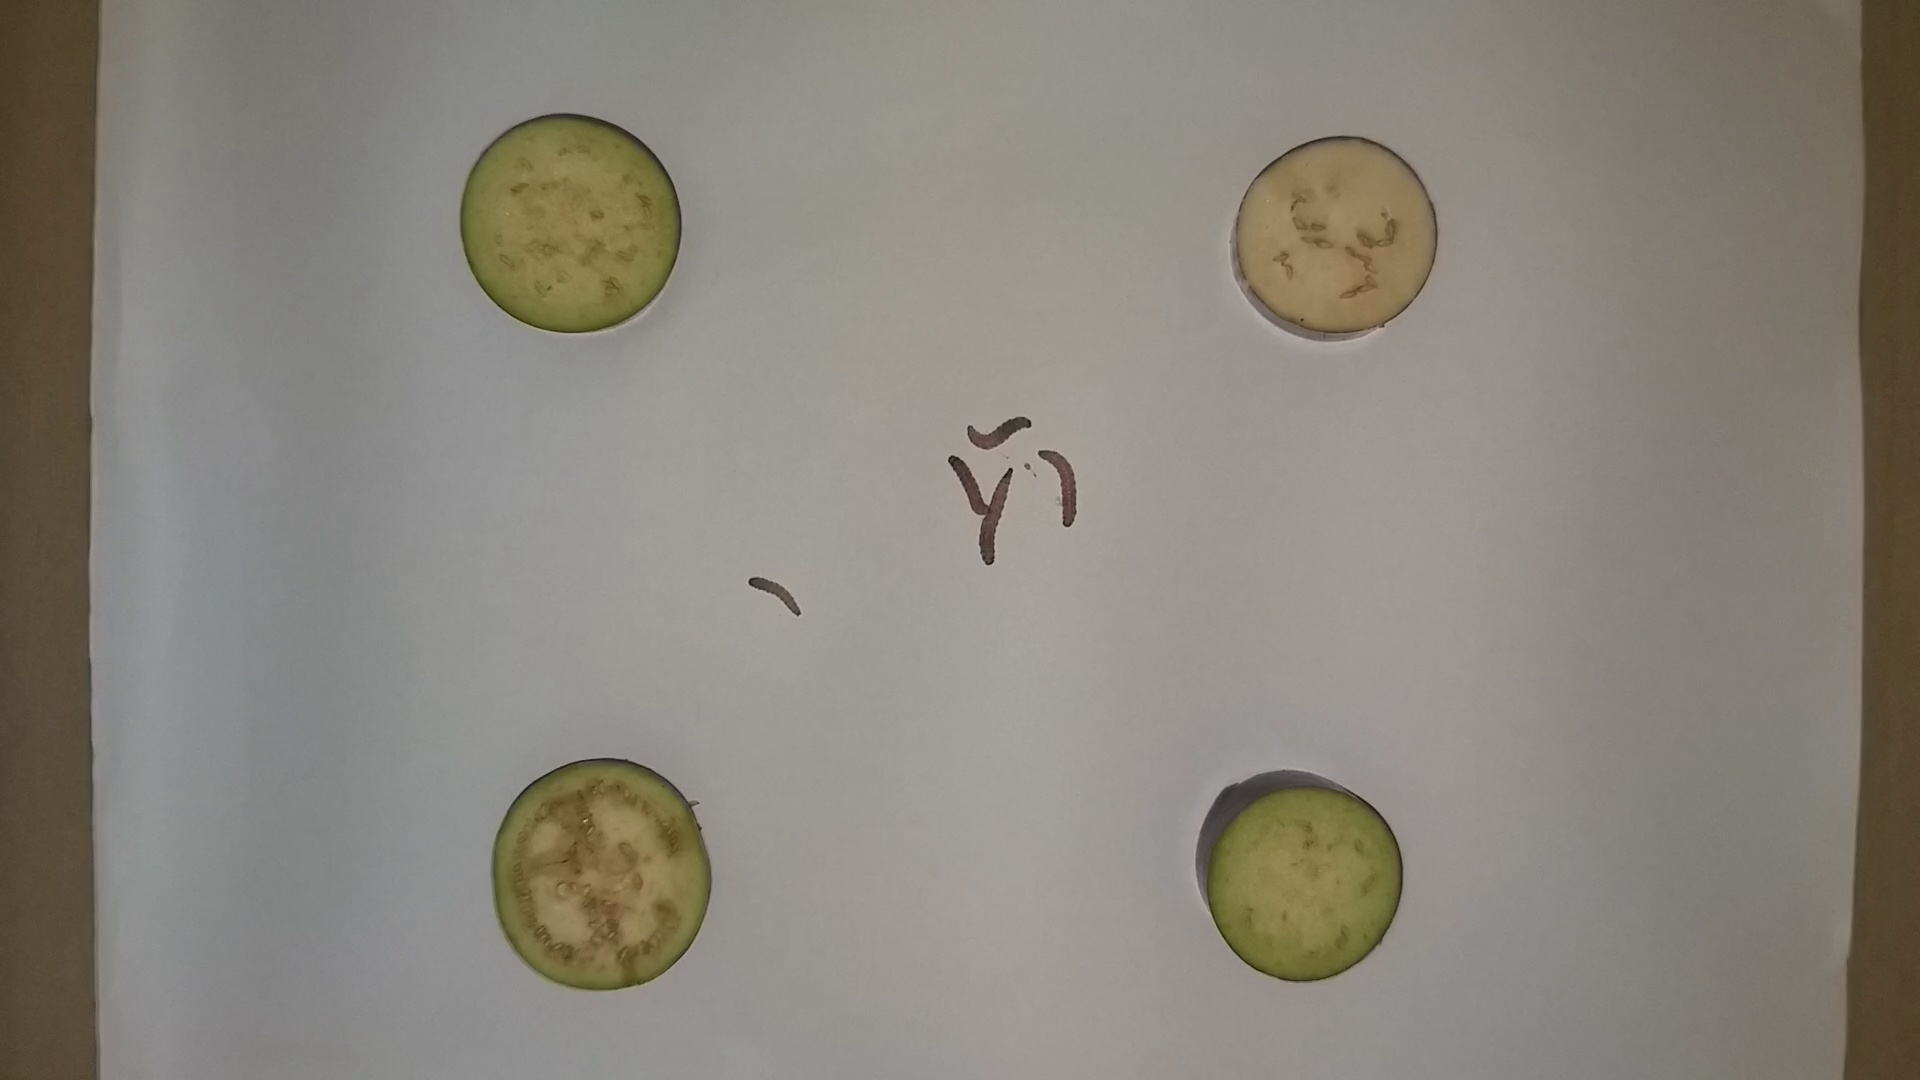efsb: (977, 456, 1018, 579), (1029, 440, 1083, 531), (731, 568, 807, 618), (947, 450, 1000, 521), (967, 411, 1039, 455)
eggplant: (477, 752, 723, 1000), (454, 107, 686, 342), (1187, 756, 1414, 989), (1221, 131, 1451, 349)
